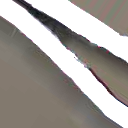crackTip: (10, 1, 128, 106)
